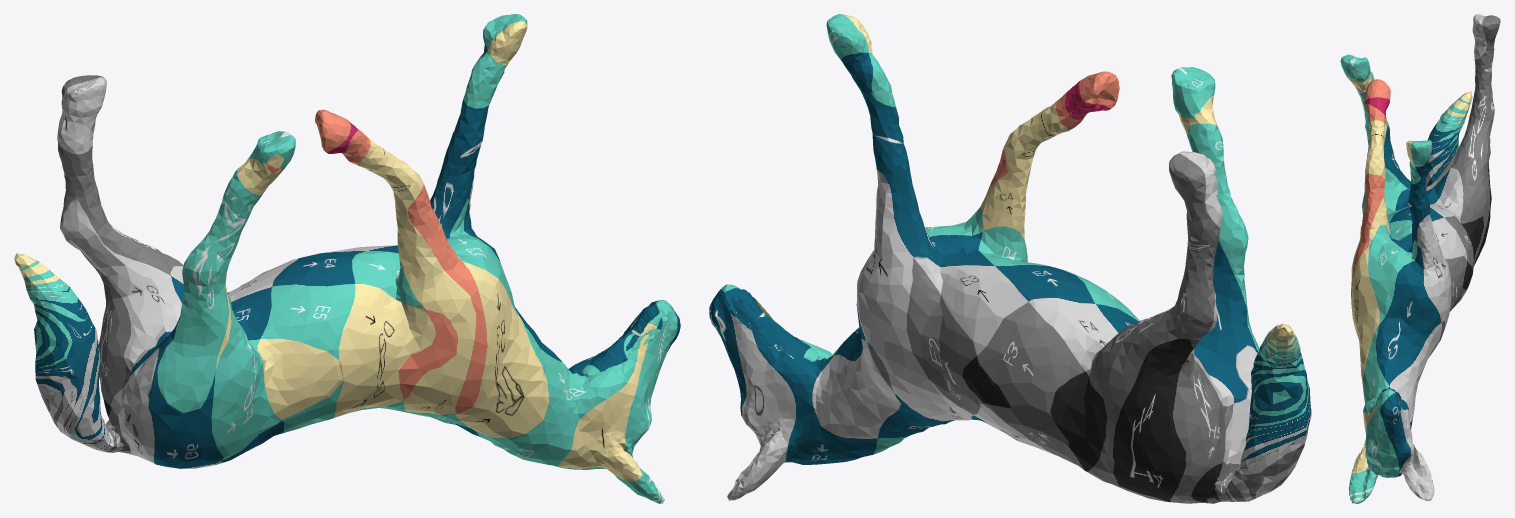
File: hippo_06-horse_06.obj
The picture shows the model from 3 angles, left to right: view 1: azimuth 30°, elevation 25°; view 2: azimuth 150°, elevation 25°; view 3: azimuth 270°, elevation 25°; orthographic projection. The views are drawn at different scales.
Parts seen in each view (by area): view 1: hippo_06-horse_06_export; view 2: hippo_06-horse_06_export; view 3: hippo_06-horse_06_export.
Part boxes in pixels (x1=…): hippo_06-horse_06_export: x1=14, y1=14, x2=680, y2=503; hippo_06-horse_06_export: x1=709, y1=14, x2=1311, y2=503; hippo_06-horse_06_export: x1=1340, y1=14, x2=1500, y2=503.
Size of the model in its own units: 1.02 by 0.7688 by 0.3394.
